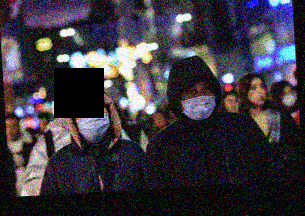with_mask: (72, 100, 111, 143), (179, 79, 218, 121), (281, 88, 298, 107)
without_mask: (248, 80, 269, 108), (6, 122, 21, 142)
